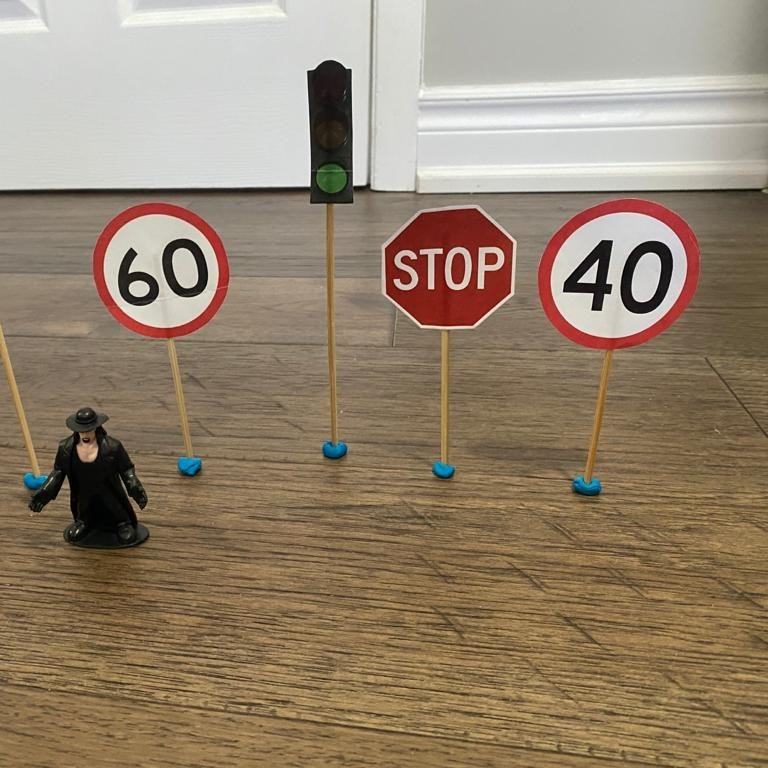Green Traffic Light: (301, 53, 358, 208)
Person: (23, 406, 162, 554)
Speed Limit 40: (535, 194, 705, 351)
Speed Limit 60: (90, 196, 235, 346)
Stop Sign: (377, 201, 523, 340)
